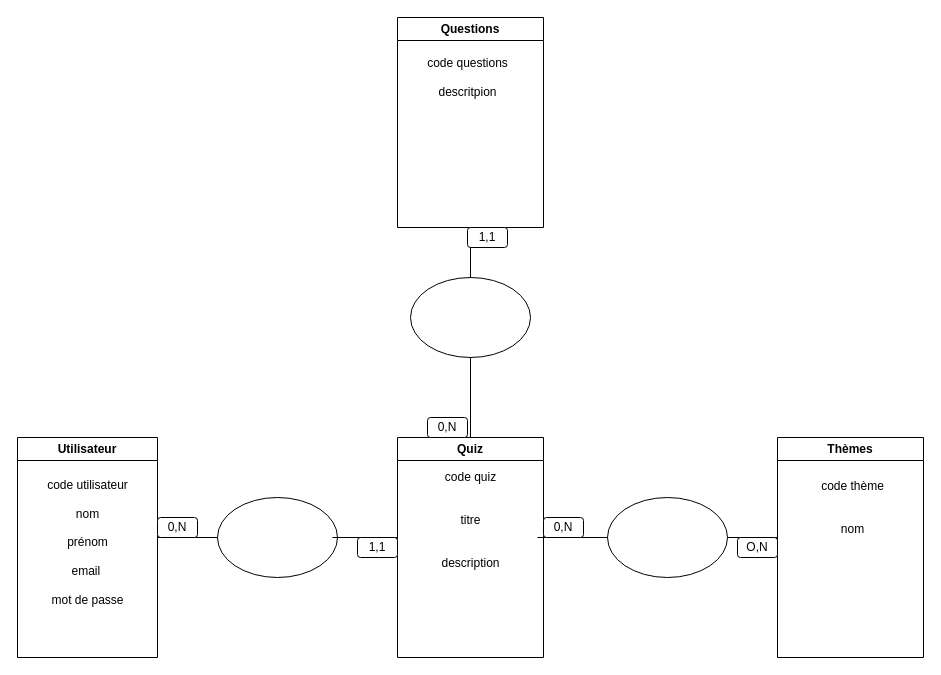
Some shapes in this 941 by 675 pixel diagram are drawn without their labels. The shapes that lost their labels are listed below. From the top down, each one's centre as x and y in pixels, then its label:
(x=470, y=317): COMPOSE
(x=277, y=537): CREE
(x=667, y=537): CATEGORISE
